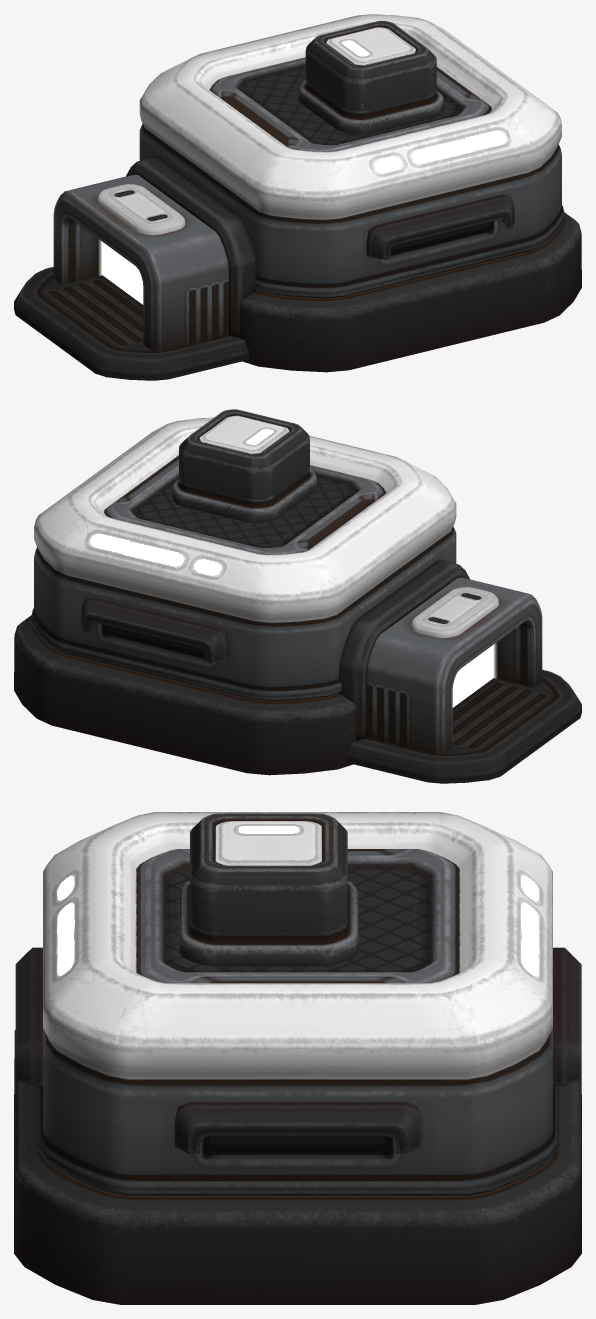
Rendered from core.gltf.
3 renders of one model, top to bottom at view 1: azimuth 30°, elevation 25°; view 2: azimuth 150°, elevation 25°; view 3: azimuth 270°, elevation 25°, orthographic. The views are drawn at different scales.
Visible parts, largest first — view 1: polySurface6; view 2: polySurface6; view 3: polySurface6.
Part boxes in pixels (x1,y1,x2,y2): polySurface6: (14,14,581,380); polySurface6: (14,409,581,783); polySurface6: (14,812,581,1304).
Size of the model in its own units: 4.22 by 2.05 by 3.02.
Materials: 1 (1 with a texture image).
